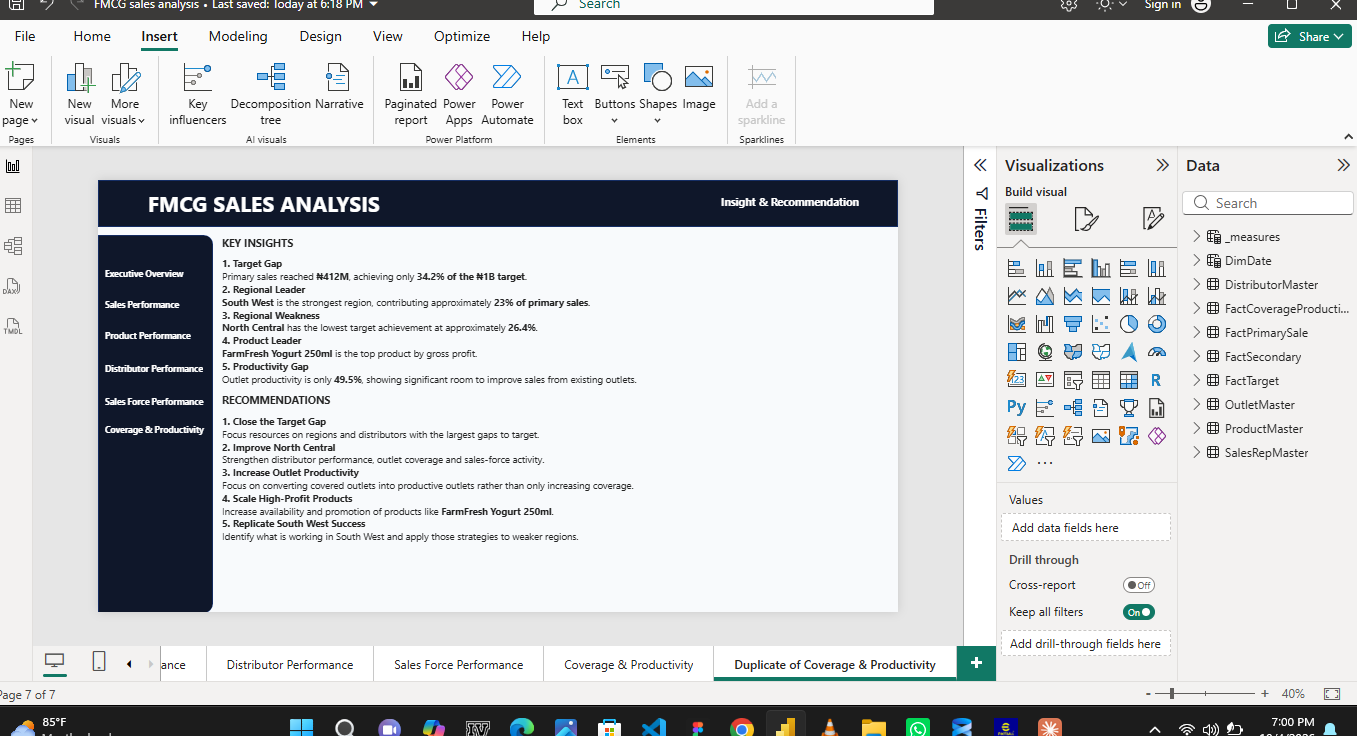

Layout of this report page (visuals, bound fields, positions):
{"tool":"powerbi","page":{"name":"Insights & Recommendations","canvas":[2000,1082],"ordinal":6},"visuals":[{"type":"shape","box":[0,0,2000,117.5],"z":0},{"type":"textbox","box":[125,22.5,632.5,75],"z":1000},{"type":"shape","box":[0,137.5,287.5,945],"z":2000},{"type":"textbox","box":[17.5,297.5,237.5,32.5],"z":3000},{"type":"textbox","box":[17.5,220,215,45],"z":4000},{"type":"textbox","box":[17.5,375,255,35],"z":5000},{"type":"textbox","box":[17.5,457.5,255,37.5],"z":6000},{"type":"textbox","box":[17.5,540,255,37.5],"z":7000},{"type":"textbox","box":[17.5,610,255,37.5],"z":8000},{"type":"textbox","box":[310,137.5,1405,812.5],"z":40601},{"type":"textbox","box":[1557.5,35,360,50],"z":40602}]}

Visuals, with their boxes on the page's 2000x1082 design canvas (x1, y1, x2, y2). These are canvas units, not pixel positions in the 1357x736 screenshot, which may show the page scaled, cropped or inside an application window:
shape: pyautogui.locateOnScreen(0, 0, 2000, 118)
textbox: pyautogui.locateOnScreen(125, 22, 758, 98)
shape: pyautogui.locateOnScreen(0, 138, 288, 1082)
textbox: pyautogui.locateOnScreen(18, 298, 255, 330)
textbox: pyautogui.locateOnScreen(18, 220, 232, 265)
textbox: pyautogui.locateOnScreen(18, 375, 272, 410)
textbox: pyautogui.locateOnScreen(18, 458, 272, 495)
textbox: pyautogui.locateOnScreen(18, 540, 272, 578)
textbox: pyautogui.locateOnScreen(18, 610, 272, 648)
textbox: pyautogui.locateOnScreen(310, 138, 1715, 950)
textbox: pyautogui.locateOnScreen(1558, 35, 1918, 85)
